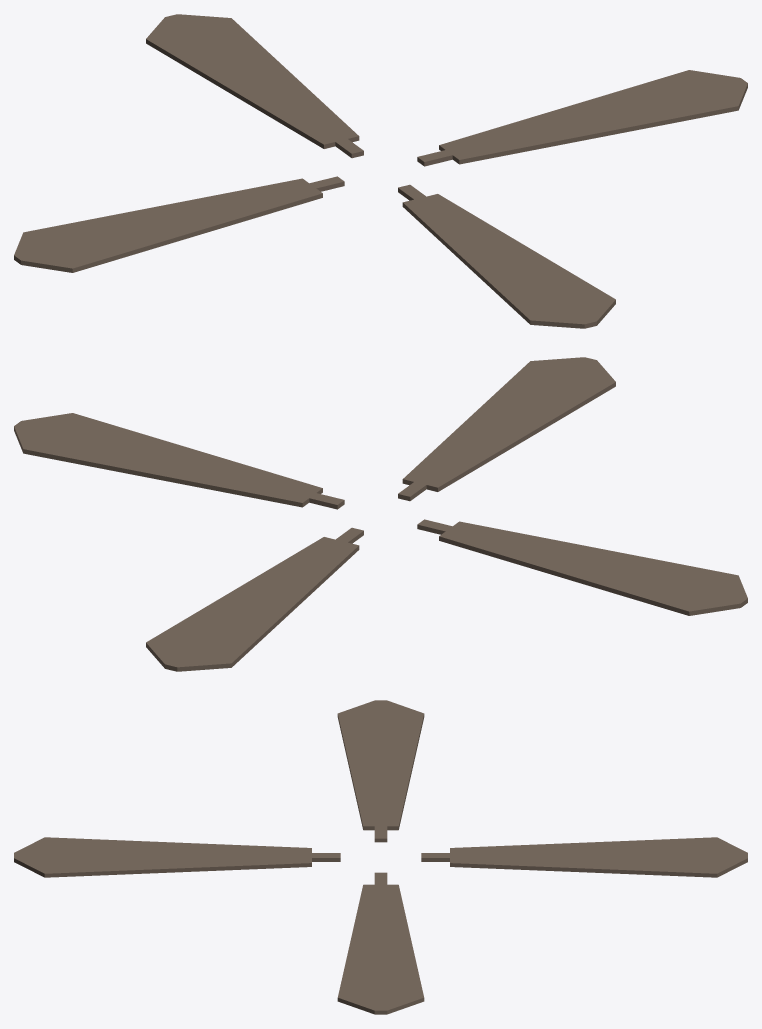
Rendered from Light_01_02.fbx.
3 views of the same model, one above another, from view 1: azimuth 30°, elevation 25°; view 2: azimuth 150°, elevation 25°; view 3: azimuth 270°, elevation 25° (orthographic). The views are drawn at different scales.
Parts seen in each view (by area): view 1: Light_01_02; view 2: Light_01_02; view 3: Light_01_02.
Boxes of the visible parts, x1,y1,x2,y2 form: Light_01_02: (14,14,747,328); Light_01_02: (14,357,747,671); Light_01_02: (14,700,747,1014).
Bounding box in the file's own units: 128 × 0.7542 × 128.
